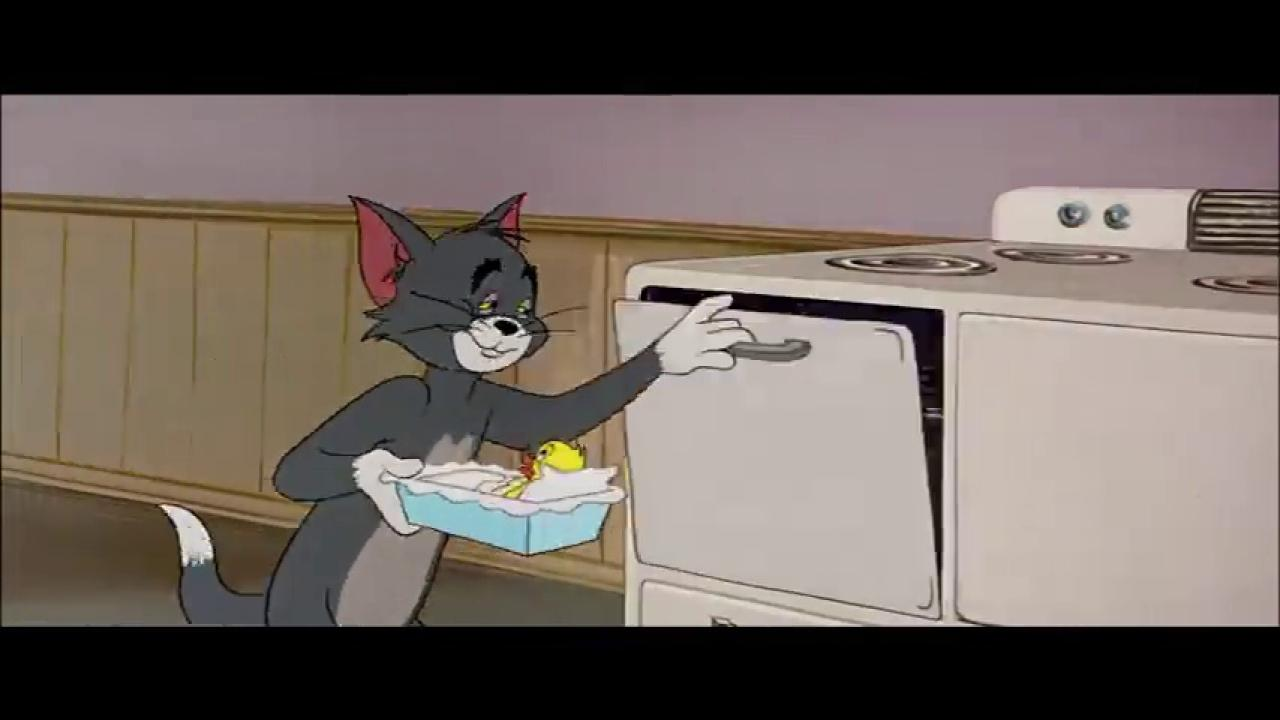Tom: (156, 191, 755, 626)
